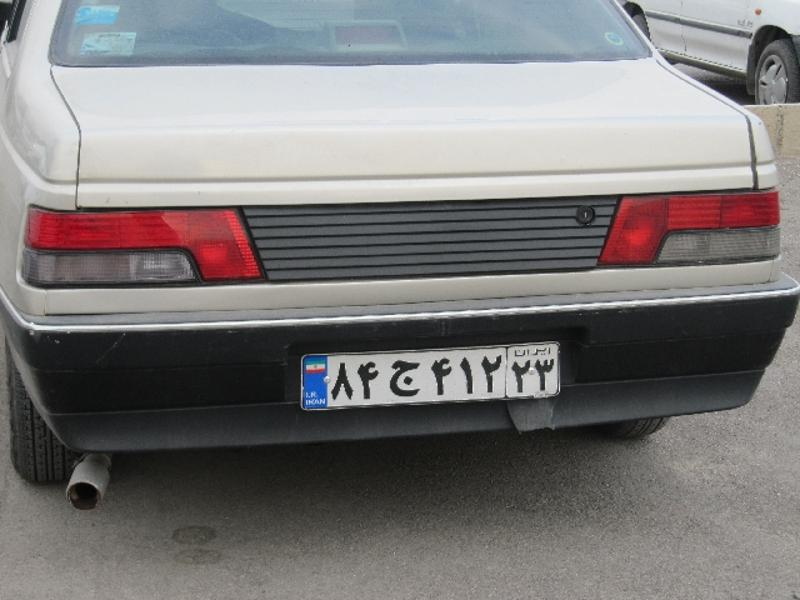Plate: (274, 338, 572, 404)
